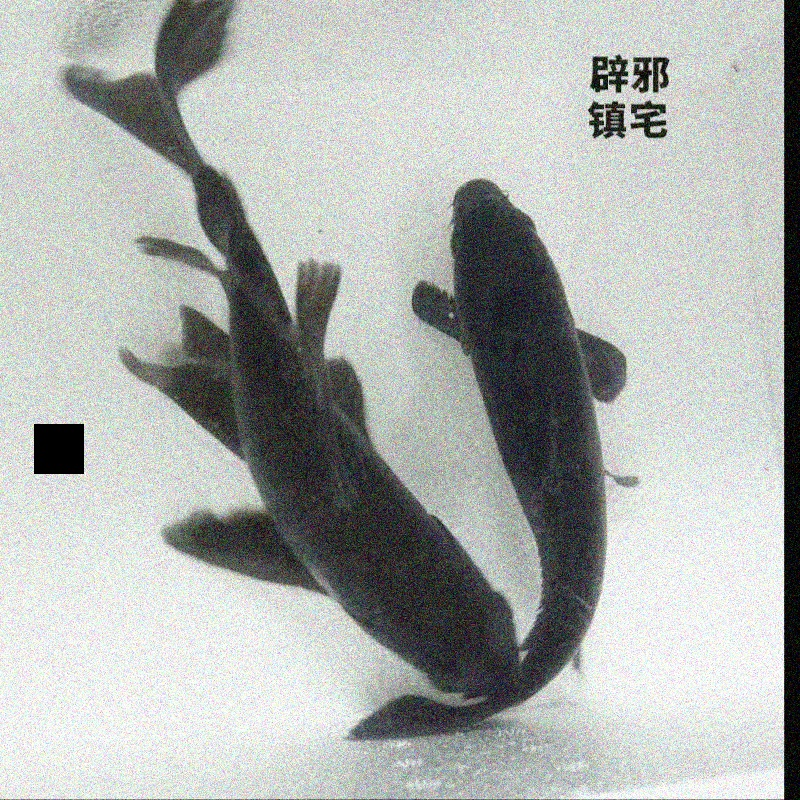fry: (42, 7, 505, 749), (409, 152, 637, 729)
